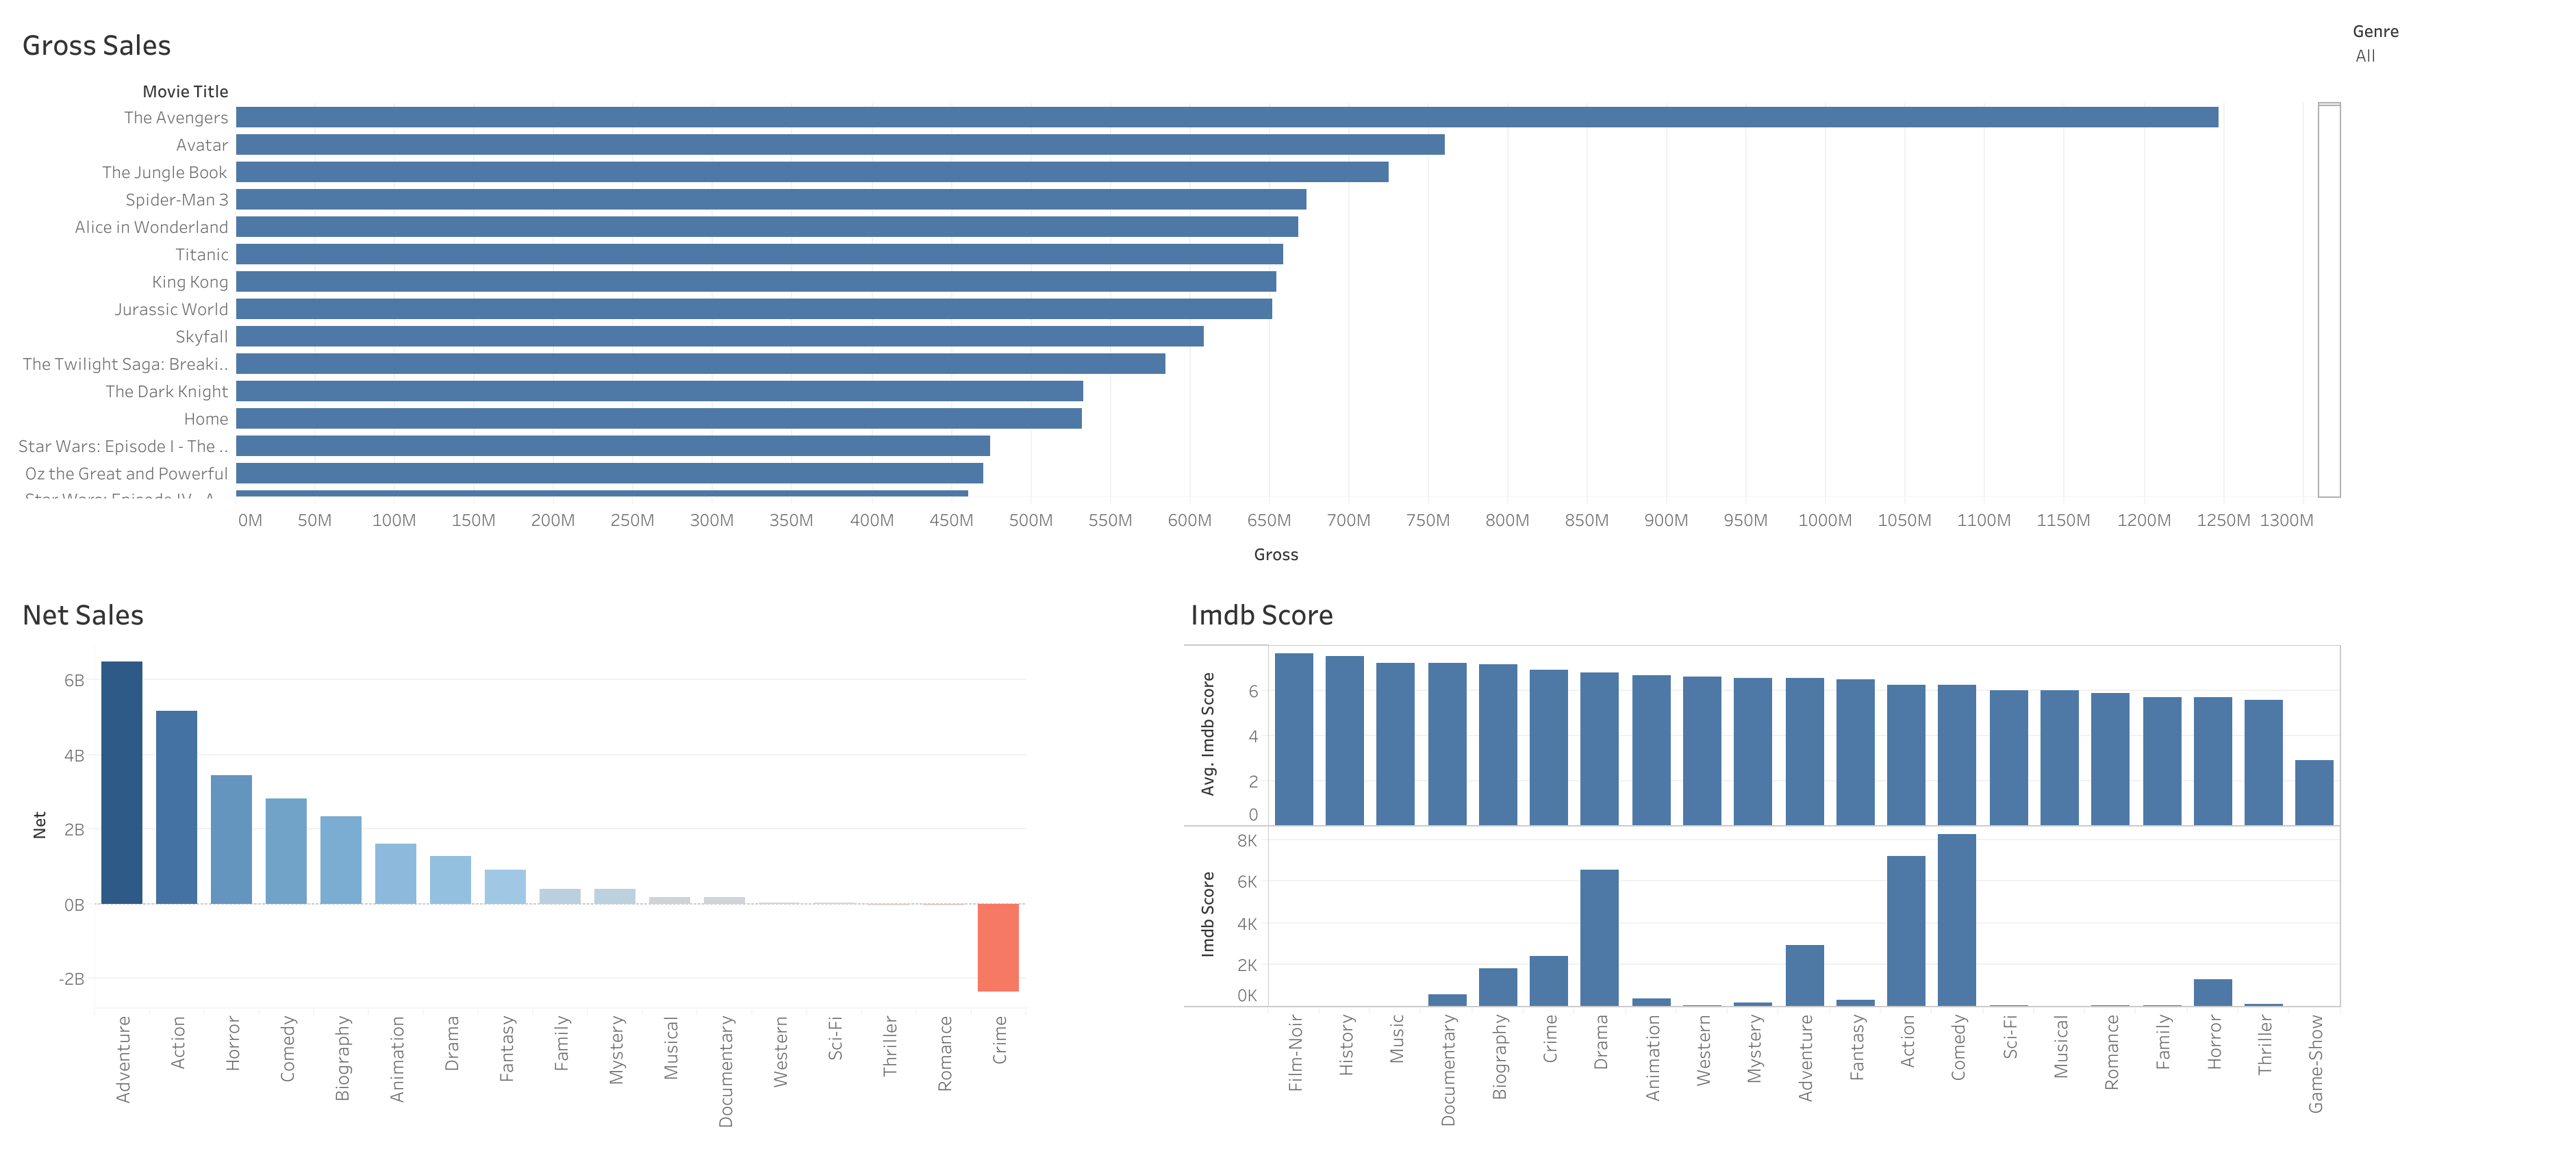

This screenshot's page, from the dashboard's own definition file:
{"tool":"tableau","page":{"name":"Movie Dashboard","canvas":[1000,1000],"units":"permille","ordinal":0},"visuals":[{"type":"worksheet","title":"Gross Sales","mark":"Automatic","rows":["movie_title"],"cols":["gross"],"box":[4.7,8.5,897,491.4]},{"type":"filter","title":"Net Sales","param":"[federated.0r1qgin0c50lfa15ed5wp1u0fmgz].[none:genres - Split 1:nk]","box":[901.7,8.5,93.6,55.1]},{"type":"worksheet","title":"Net Sales","mark":"Automatic","rows":["Calculation_1487313789804986372"],"cols":["genres - Split 1"],"box":[4.7,499.9,448.5,491.6]},{"type":"worksheet","title":"Imdb Score","mark":"Automatic","rows":["imdb_score","imdb_score"],"cols":["genres - Split 1"],"box":[453.2,499.9,448.5,491.6]}]}

Visuals, with their boxes on the dashboard's canvas, which has no fixed pixel size, in thousandths of its width and height (x1, y1, x2, y2). These are canvas units, not pixel positions in the 2576x1160 screenshot, which may show the page scaled, cropped or inside an application window:
"Gross Sales" worksheet: {"x1": 5, "y1": 8, "x2": 902, "y2": 500}
"Net Sales" filter: {"x1": 902, "y1": 8, "x2": 995, "y2": 64}
"Net Sales" worksheet: {"x1": 5, "y1": 500, "x2": 453, "y2": 992}
"Imdb Score" worksheet: {"x1": 453, "y1": 500, "x2": 902, "y2": 992}
